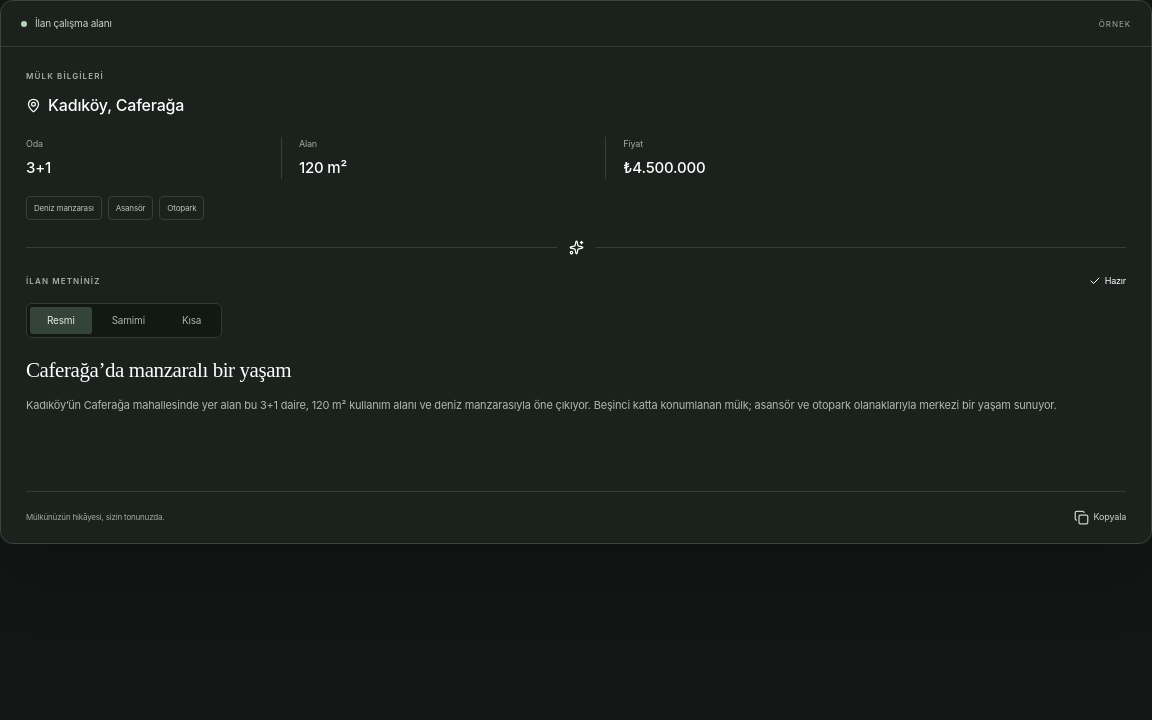
Test: ListingDemo clipboard feedback › copies the selected tone and confirms success
The image size is (1152, 720).
Step 1. Click the button "Kısa" → [192, 320], box [165,306,218,334]
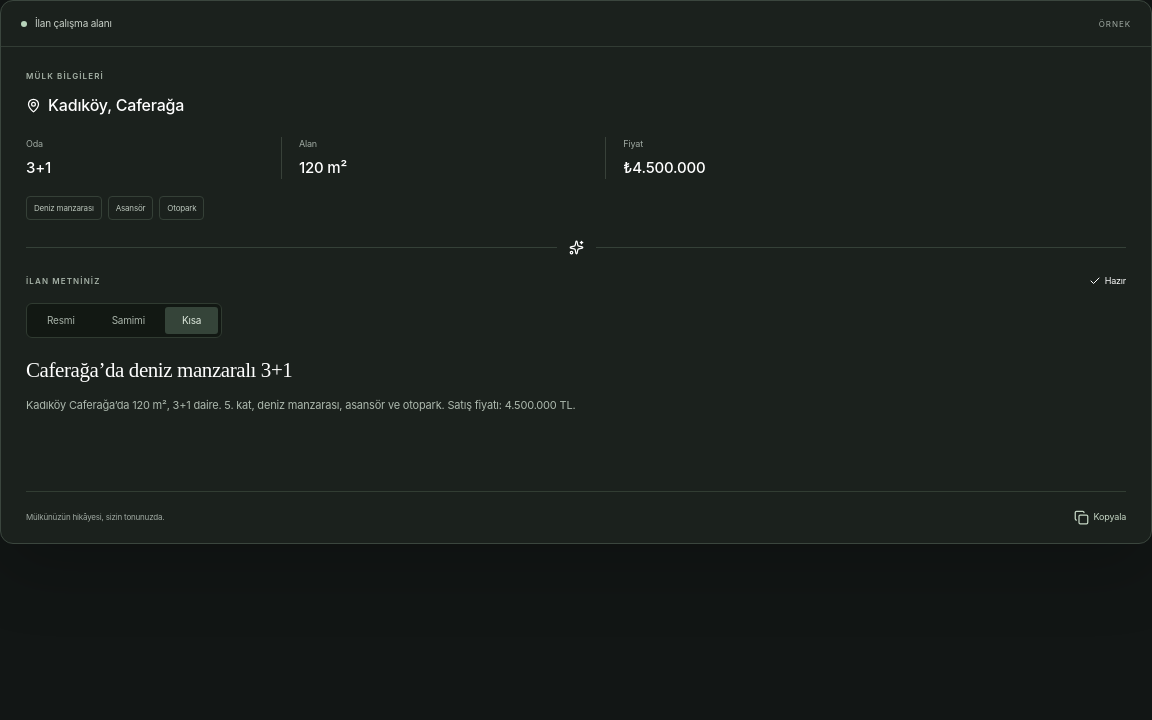
Step 2. Click the button with aria-label "Örnek metni kopyala" → [1097, 517], box [1069,504,1126,530]
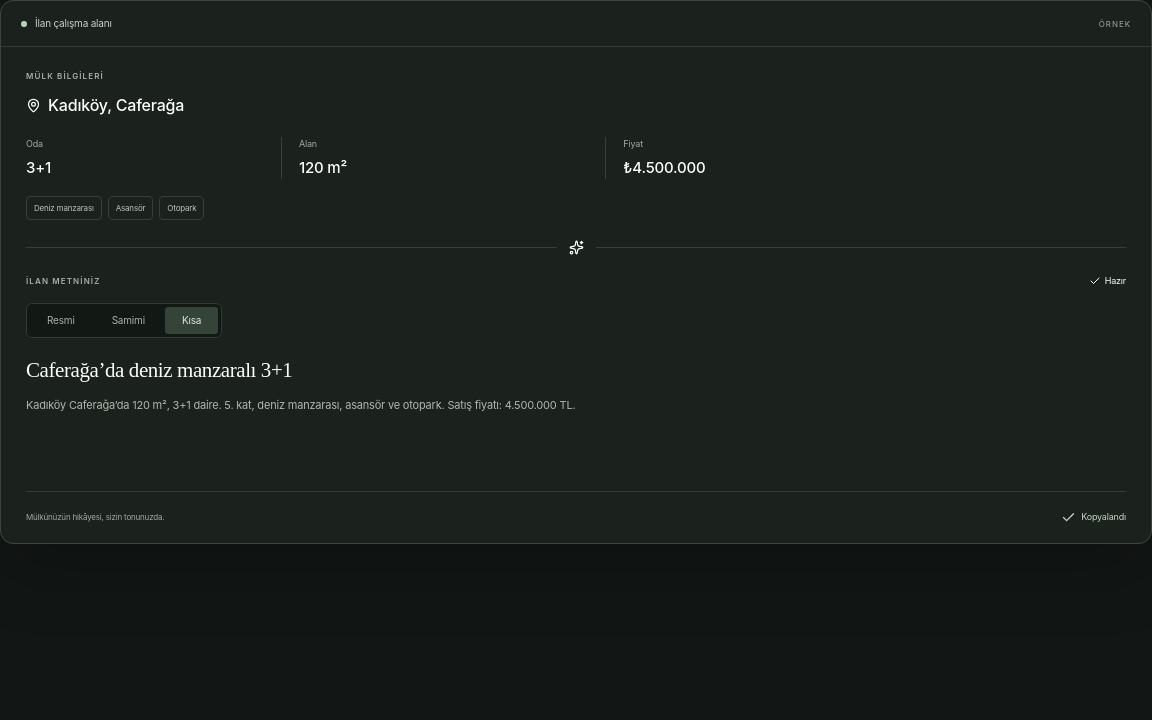
Expected: the button with aria-label "Metin kopyalandı" is shown, [1056,504,1126,530]
